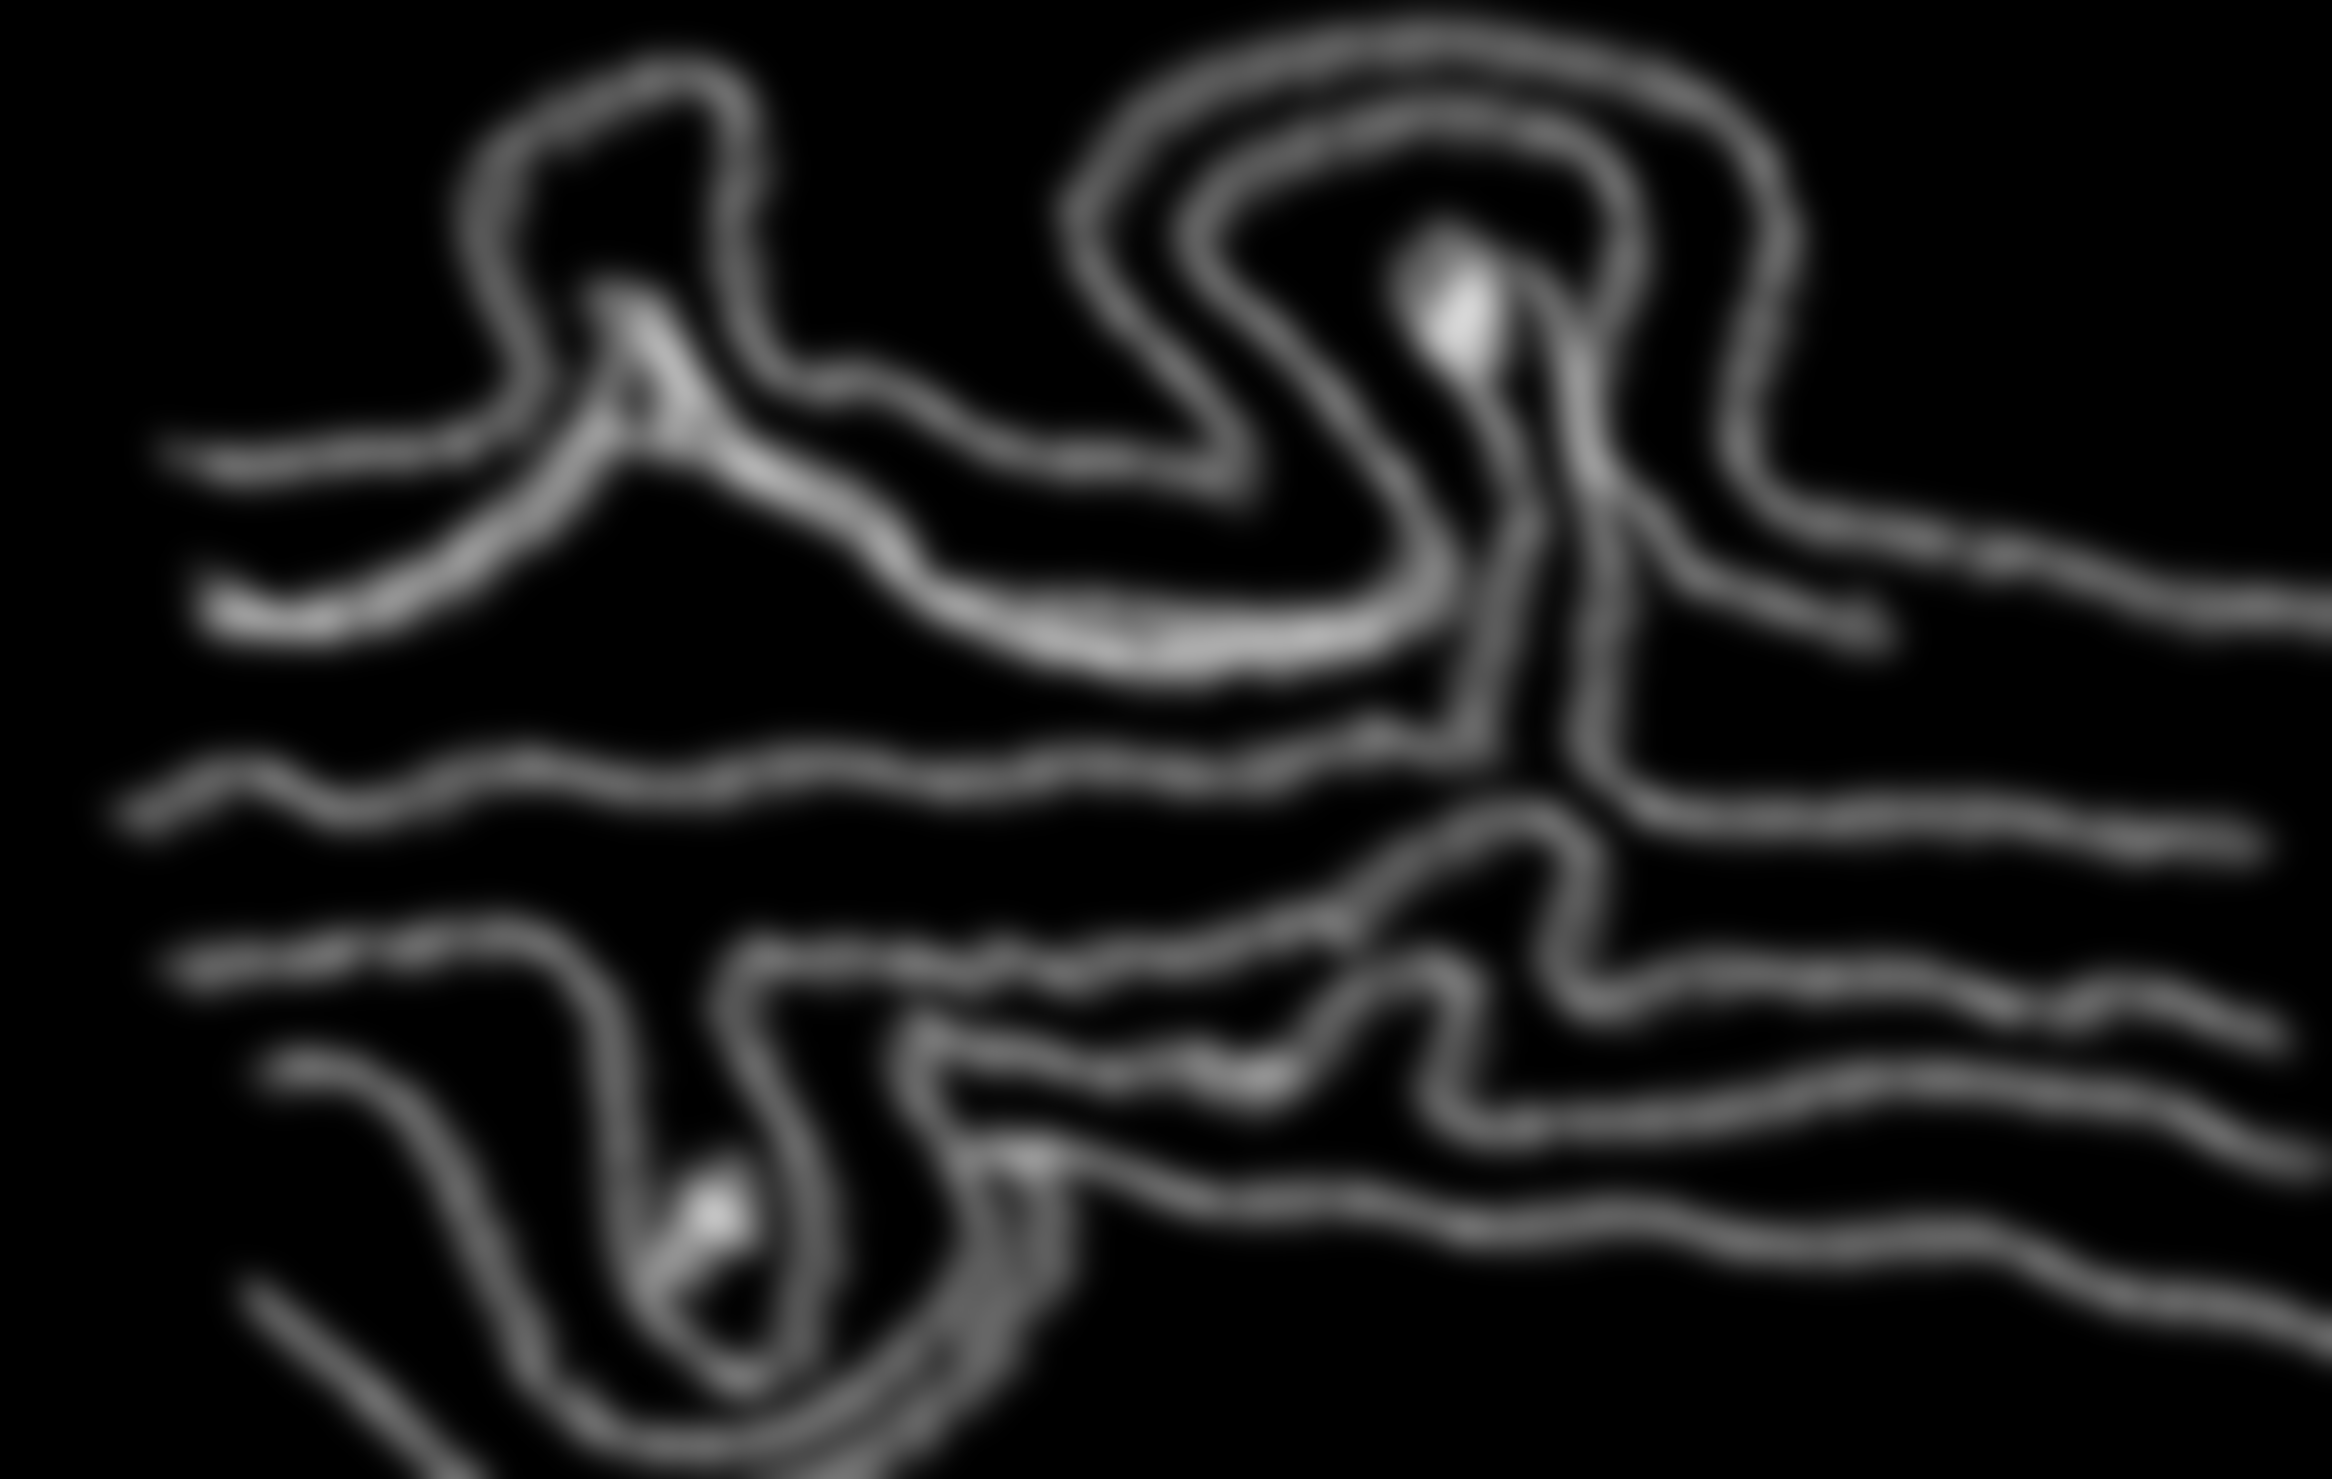turbulence: (44, 41, 2332, 1443)
